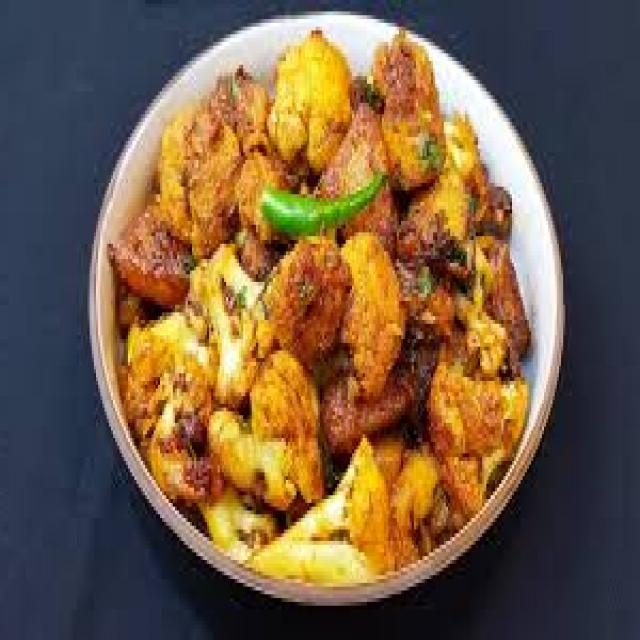Aloo Gobi: (305, 52, 503, 490)
